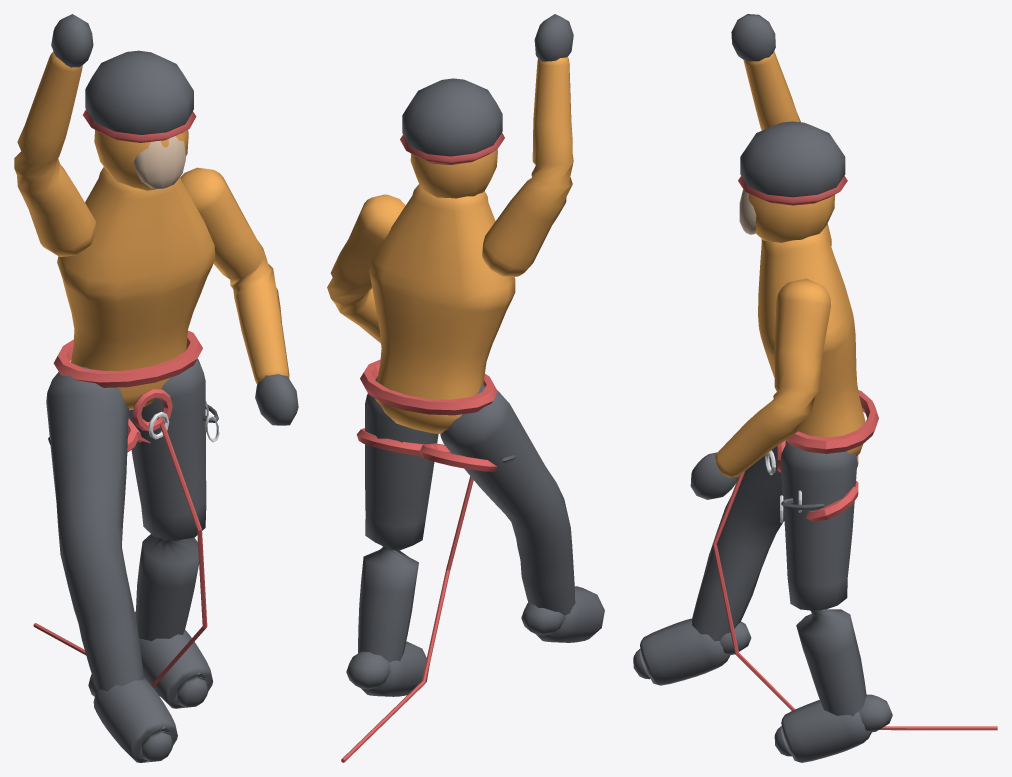
The model's file is mountaineering-and-summit-expedition-lead-climber-on-r-3b4bbcc4__18786.glb.
3 renders of one model, left to right at view 1: azimuth 30°, elevation 25°; view 2: azimuth 150°, elevation 25°; view 3: azimuth 270°, elevation 25°, orthographic. The views are drawn at different scales.
Parts seen in each view (by area): view 1: lead-climber-on-rock; view 2: lead-climber-on-rock; view 3: lead-climber-on-rock.
Boxes of the visible parts, bbox=[...] form: lead-climber-on-rock: bbox=[14, 14, 298, 762]; lead-climber-on-rock: bbox=[327, 14, 604, 762]; lead-climber-on-rock: bbox=[633, 14, 997, 762].
Bounding box in the file's own units: 0.7309 × 2.03 × 0.9793.
